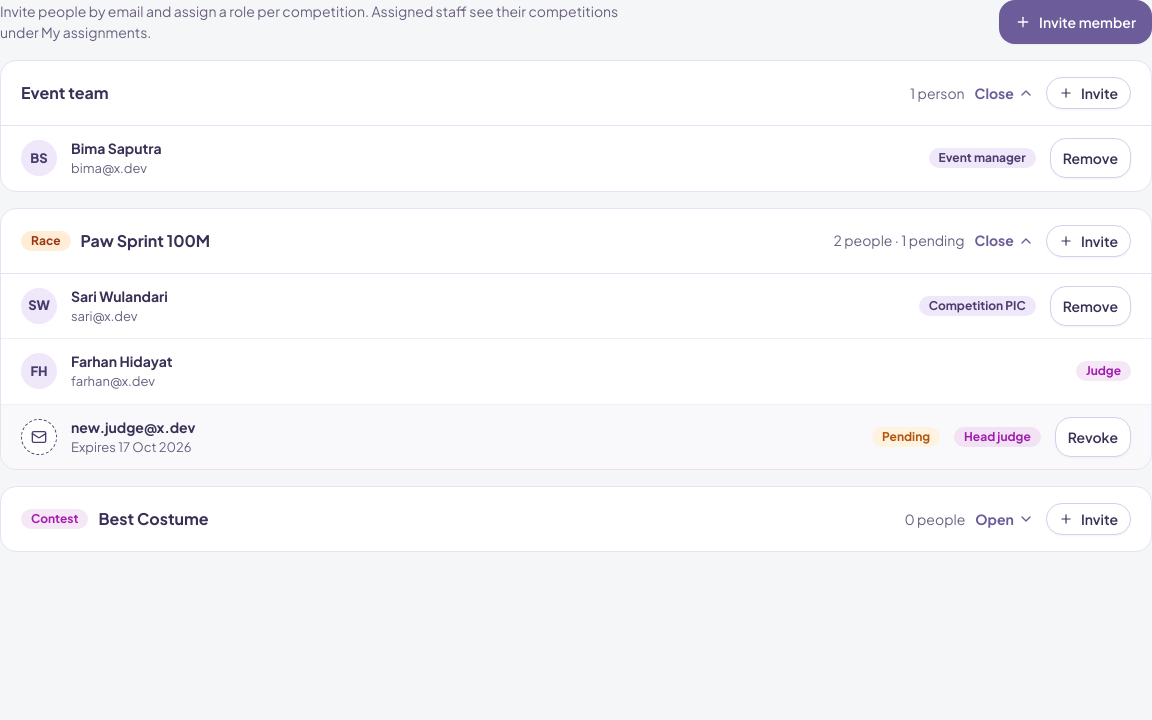
Test: EventCommittee › validates before sending and shows server 422 messages under the field
Step 1. Click the button "Invite member" → point(1076, 22), box top-left (999, 0), bottom-right (1151, 44)
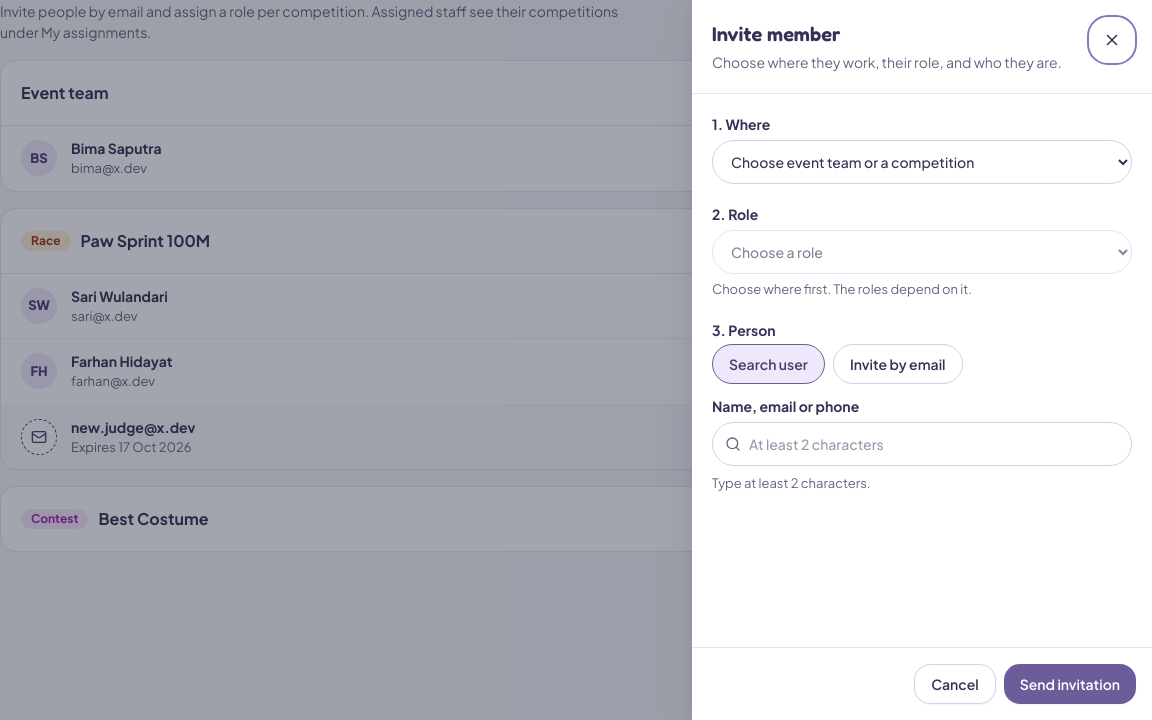
Step 2. Click the button "Send invitation" → point(1070, 684), box top-left (1004, 664), bottom-right (1136, 704)
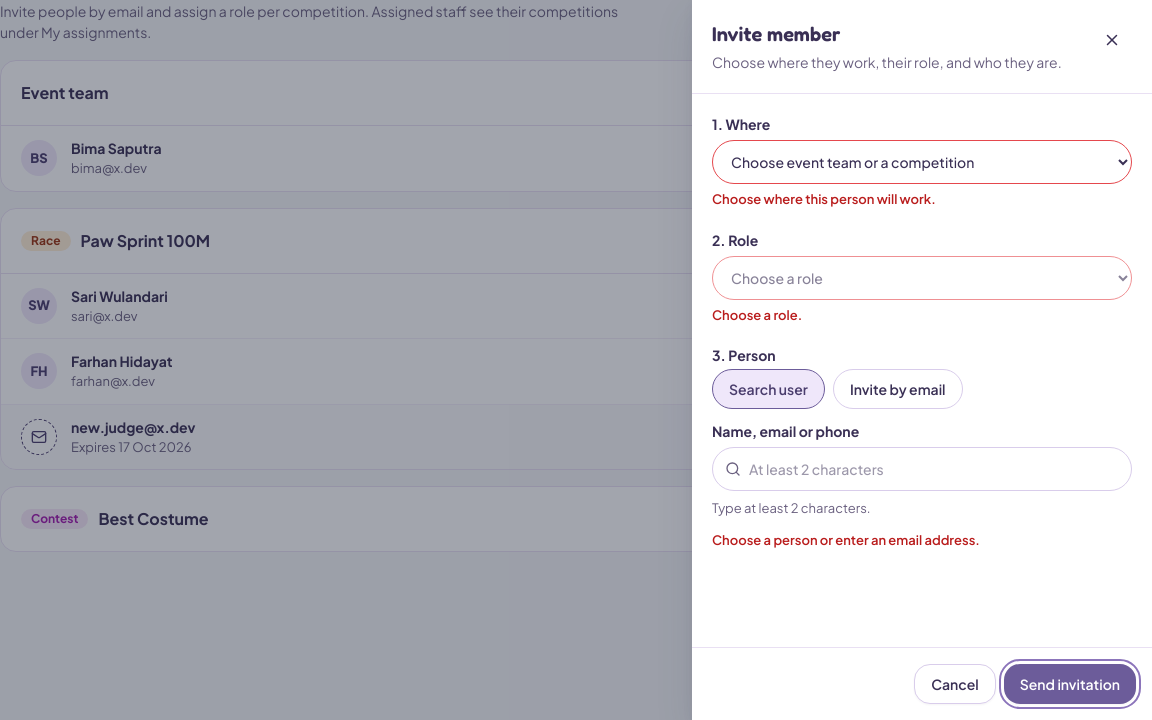
Expected: the text "Choose where this person will work." is shown, top-left (712, 191), bottom-right (936, 207)
Expected: the text "Choose a role." is shown, top-left (712, 306), bottom-right (802, 322)
Step 3. Select "Event team" in the dropdown labelled "1. Where Choose where this person will work." → point(922, 162), box top-left (712, 140), bottom-right (1132, 184)
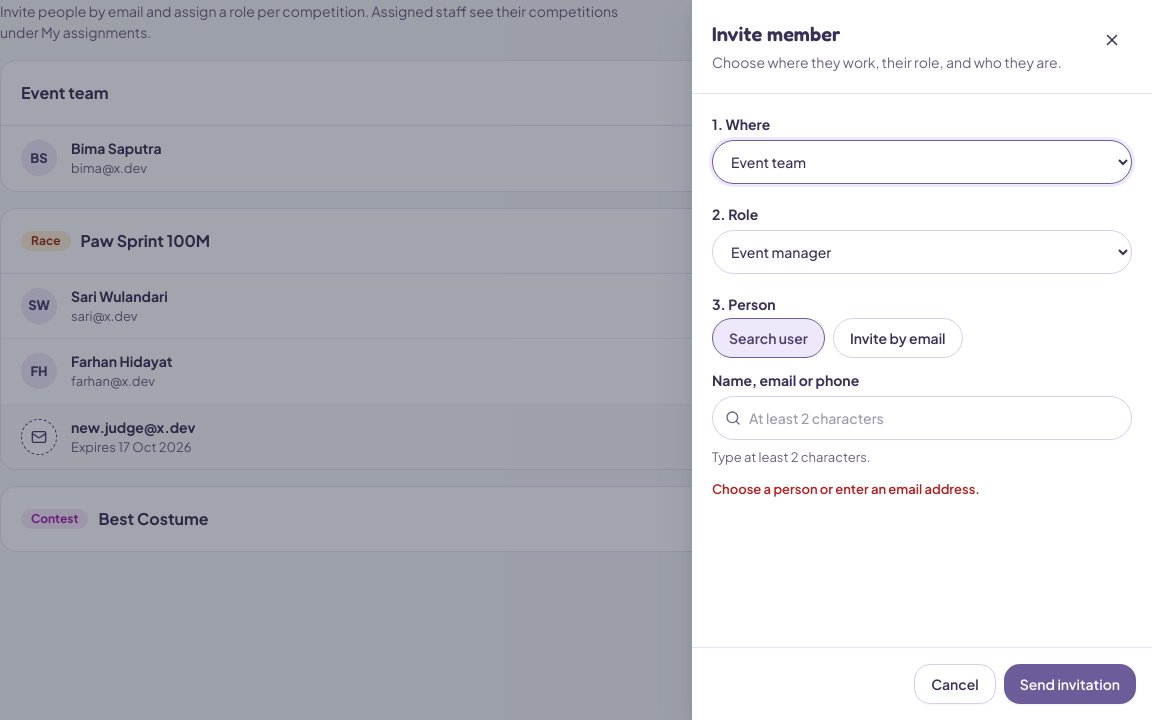
Step 4. Click the button "Invite by email" → point(898, 338), box top-left (833, 318), bottom-right (962, 358)
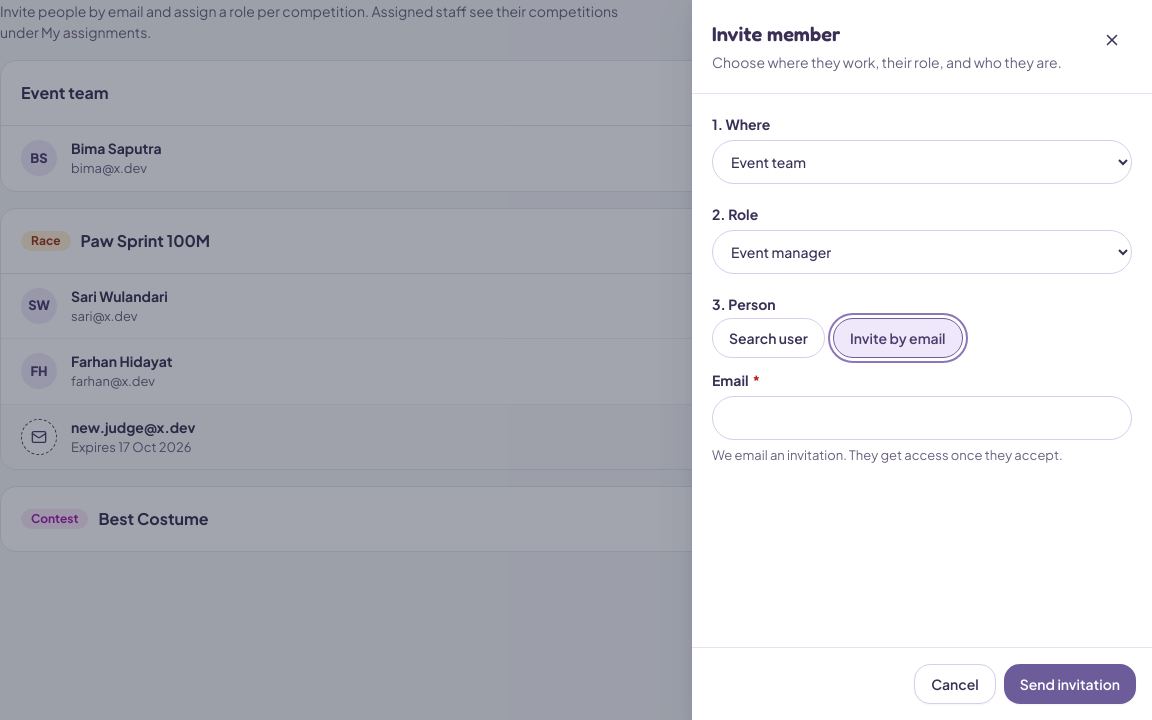
Step 5. Type "pic@x.dev" into the field labelled "Email" → point(922, 418), box top-left (712, 396), bottom-right (1132, 440)
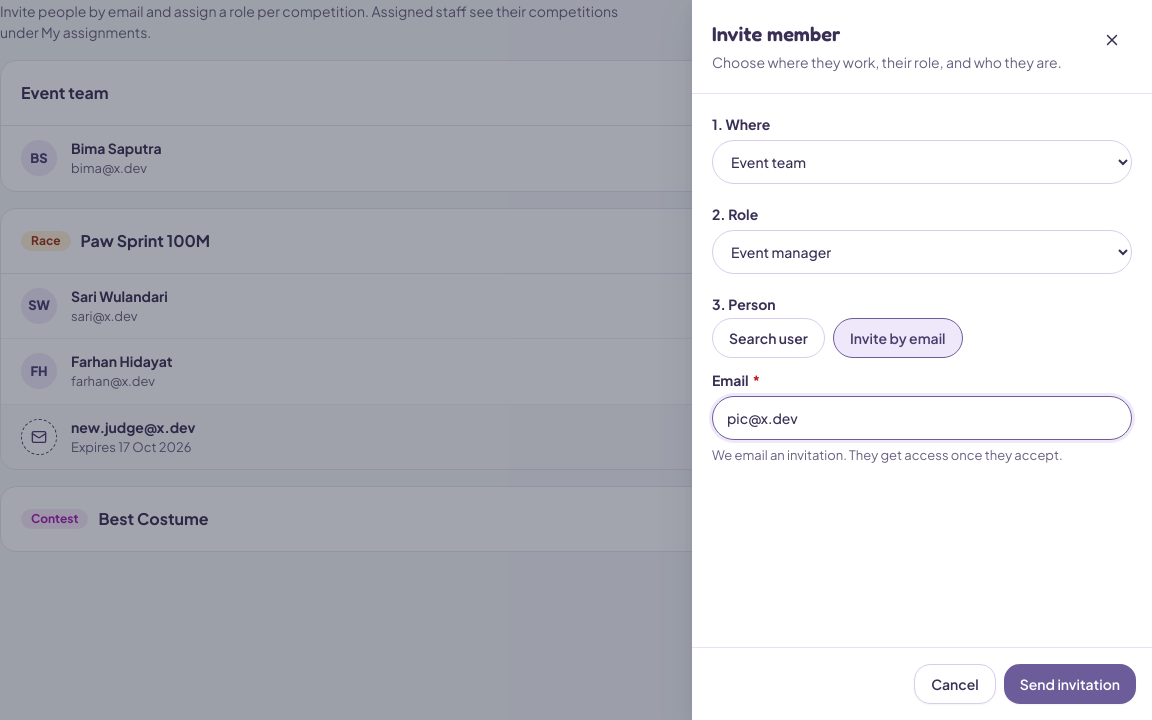
Step 6. Click the button "Send invitation" → point(1070, 684), box top-left (1004, 664), bottom-right (1136, 704)
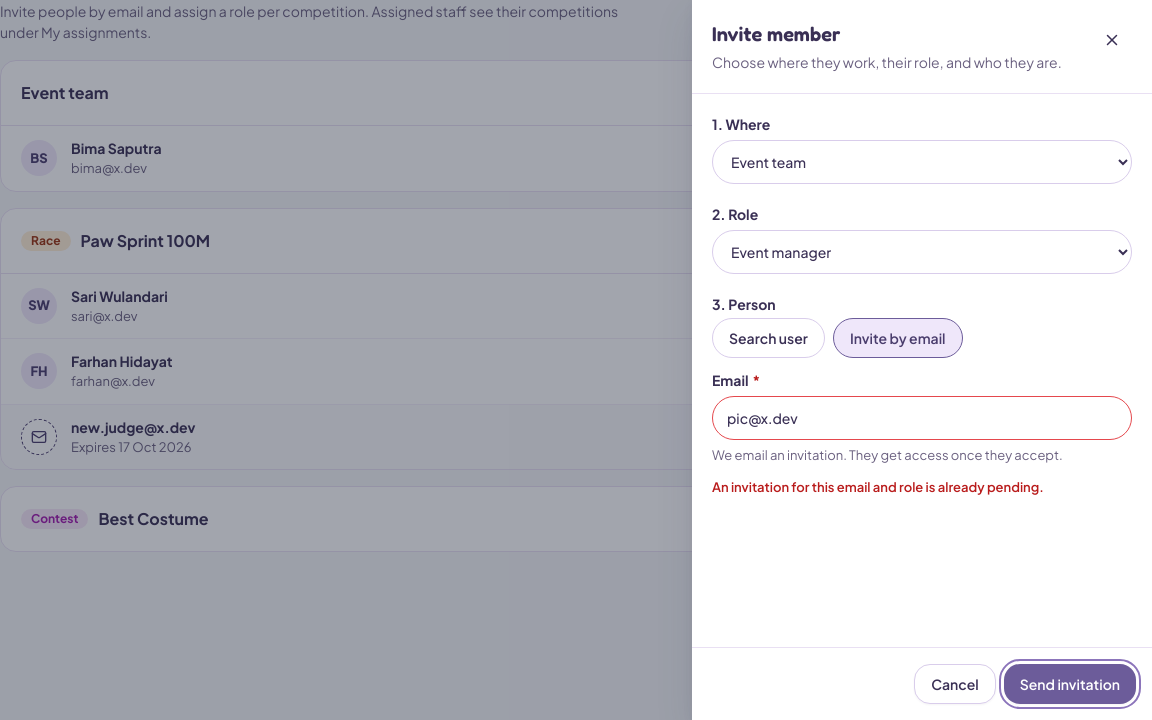
Expected: the text "An invitation for this email and role is already pending." is shown, top-left (712, 478), bottom-right (1044, 494)
